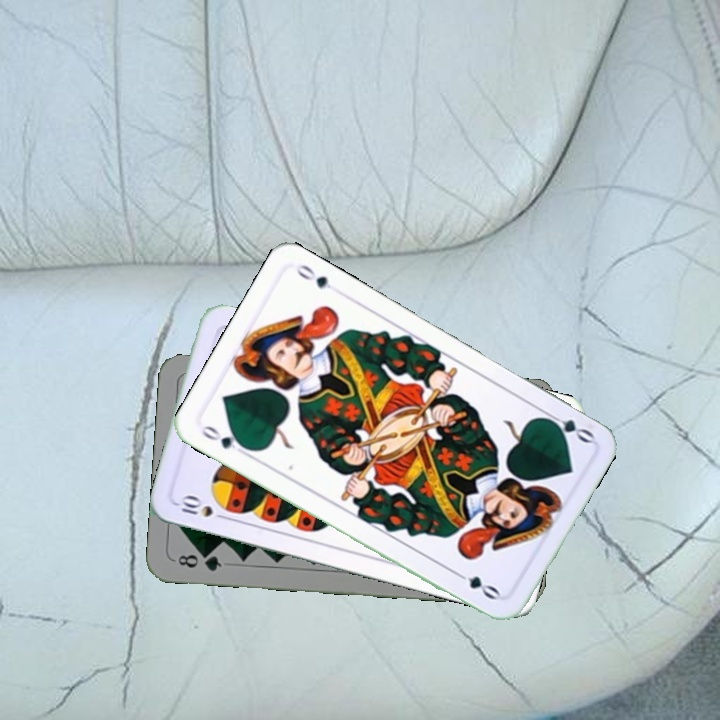G8: (173, 549, 224, 574)
GO: (539, 407, 596, 446), (197, 421, 253, 459)
S10: (177, 492, 231, 523)
